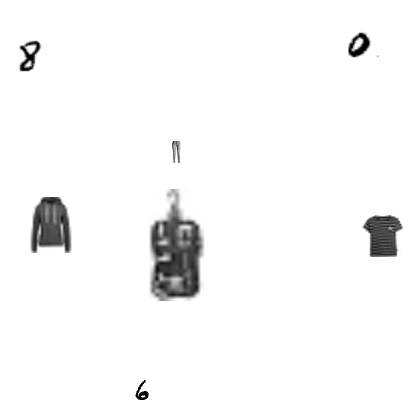0: (338, 24, 380, 66)
6: (127, 378, 155, 406)
8: (8, 35, 50, 77)
Bag: (119, 189, 231, 301)
Pullover: (23, 197, 79, 253)
T-shirt/top: (361, 215, 403, 257)
Trouser: (165, 141, 187, 163)
